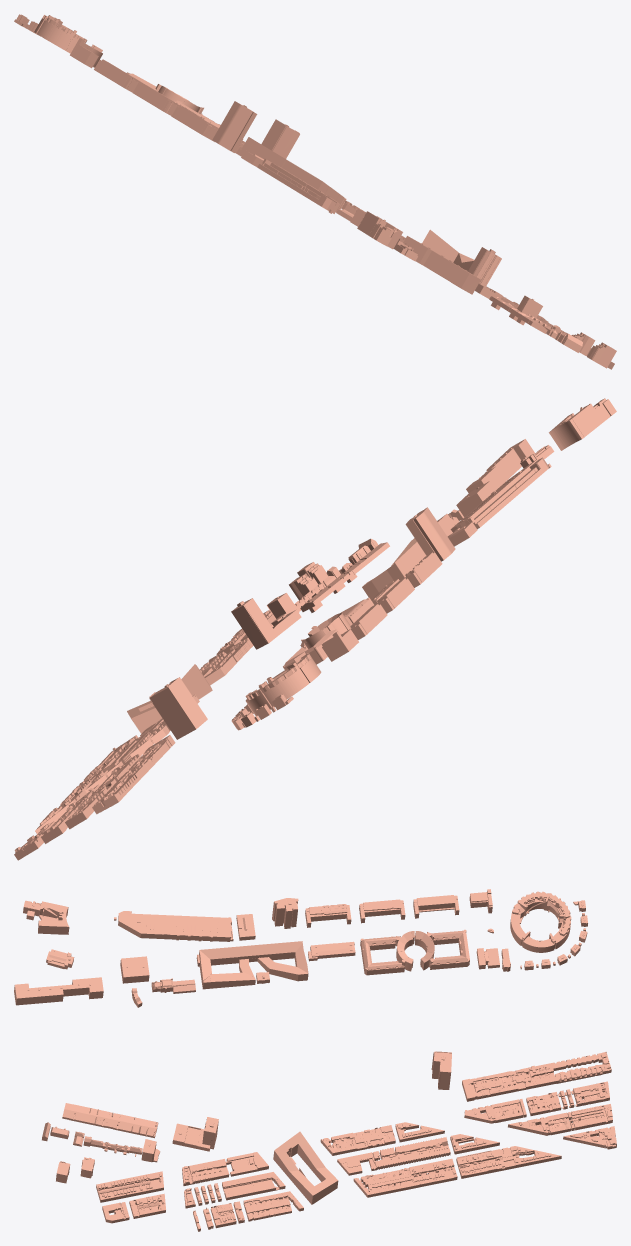
3 renders of one model, top to bottom at view 1: azimuth 30°, elevation 25°; view 2: azimuth 150°, elevation 25°; view 3: azimuth 270°, elevation 25°, orthographic. The views are drawn at different scales.
Bounding box in the file's own units: 1.68e+07 × 1.29e+07 × 3.17e+07.
